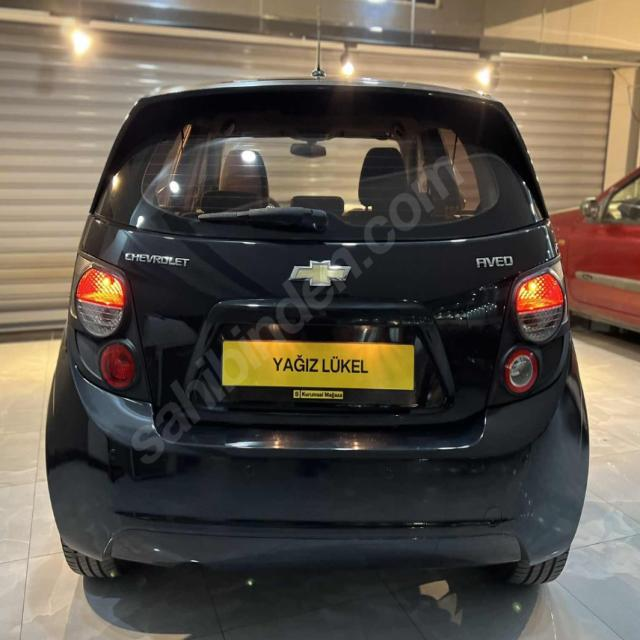chevrolet: (287, 255, 354, 293)
